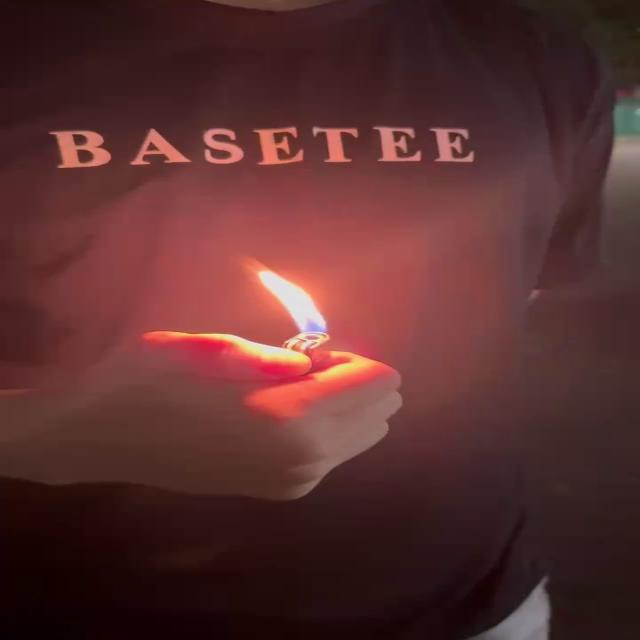Fire: (251, 263, 333, 341)
